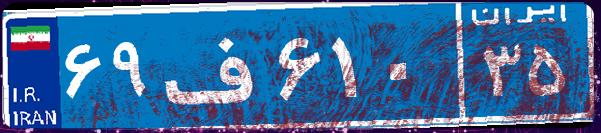0: (385, 28, 445, 110)
1: (330, 28, 385, 110)
3: (475, 38, 525, 113)
5: (525, 38, 570, 115)
6: (273, 28, 330, 110), (57, 26, 110, 107)
9: (110, 28, 158, 105)
ف: (158, 15, 273, 115)
